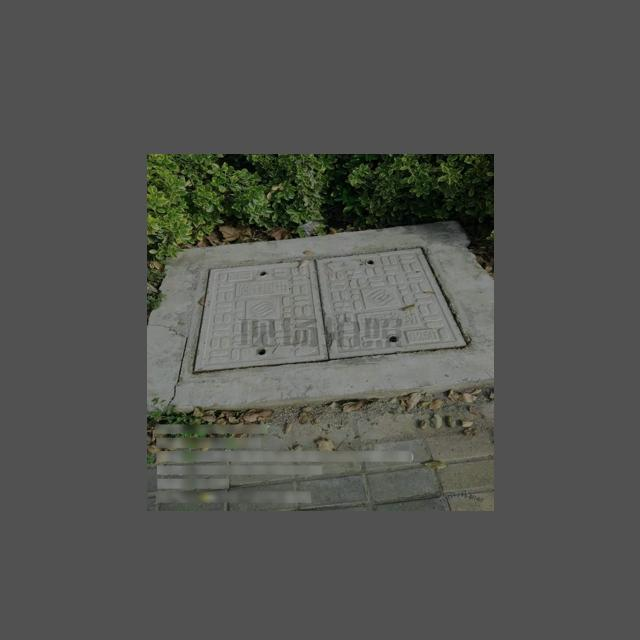good: (183, 245, 468, 373)
